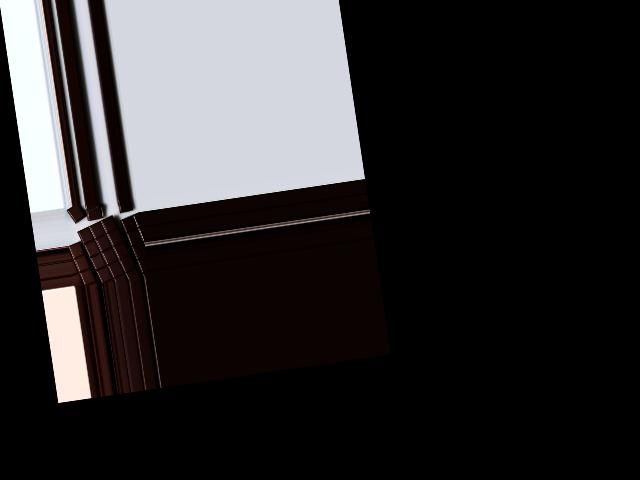chocolate: (74, 213, 139, 286)
